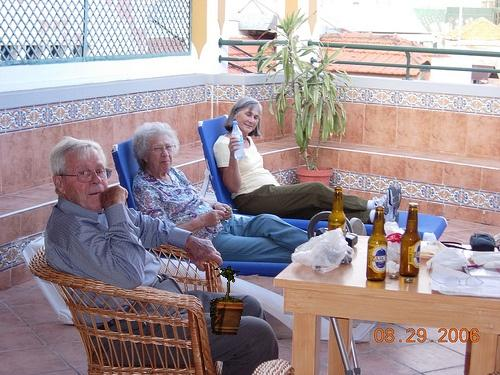tampered: (211, 265, 243, 335)
